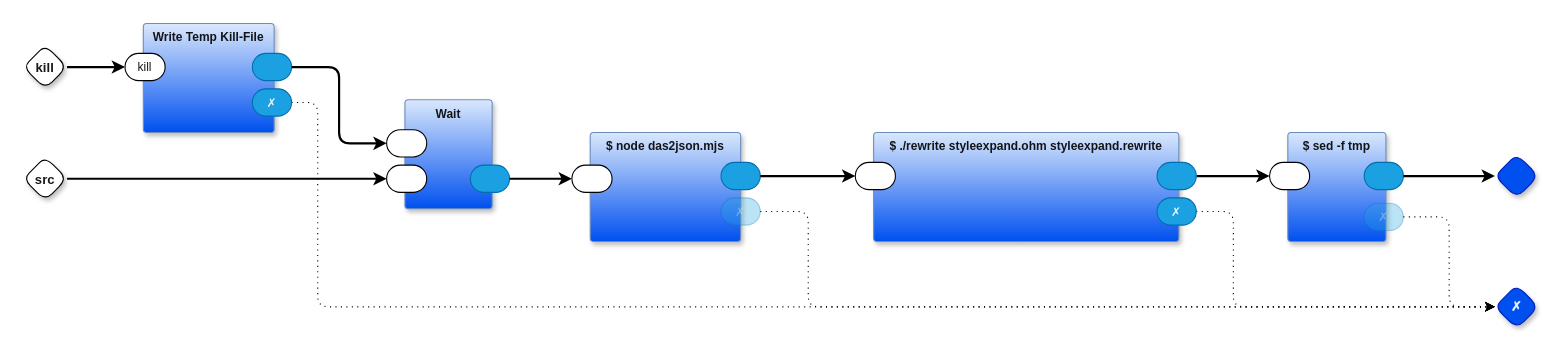
This 1564x355 diagram has some shape labels left out. Each missing label, with the centre of its shape:
"done" belongs at (x=271, y=66).
"go" belongs at (x=406, y=143).
